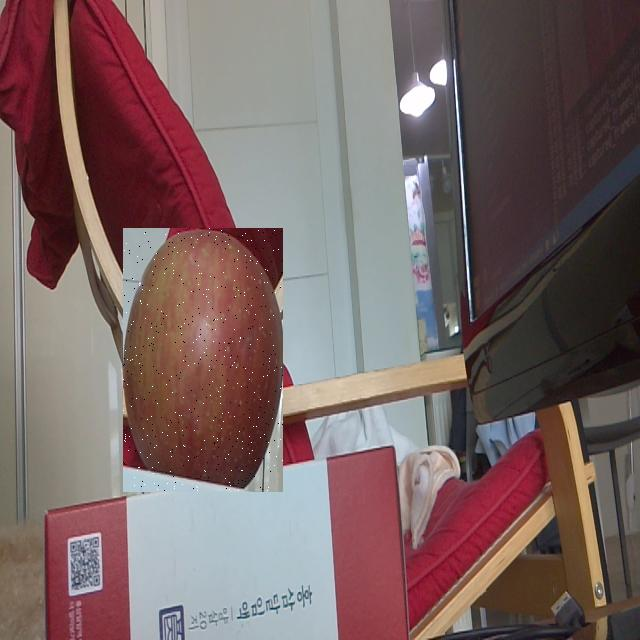apple: (123, 228, 283, 492)
